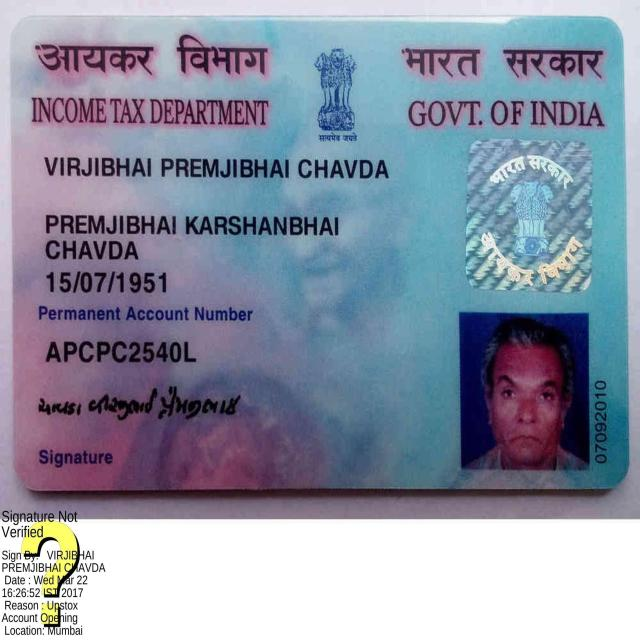pan_card: (17, 21, 621, 484)
